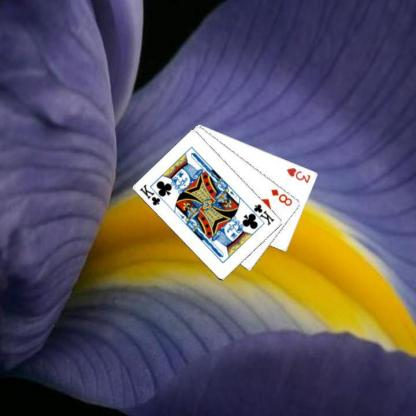3H: (284, 166, 312, 184)
8D: (269, 186, 294, 208)
KC: (246, 201, 276, 226), (137, 182, 167, 207)
